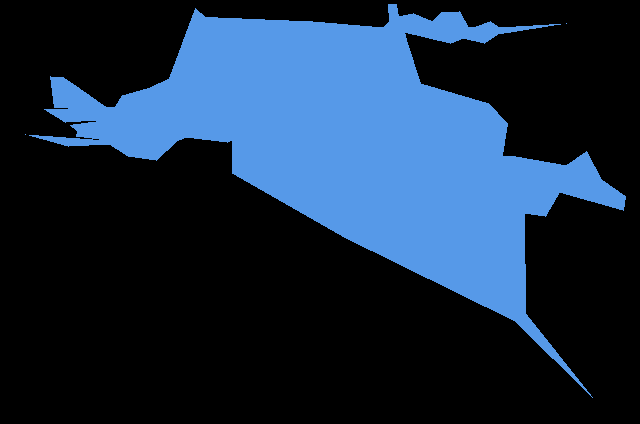Airplane: (25, 4, 625, 397), (50, 76, 107, 140)
